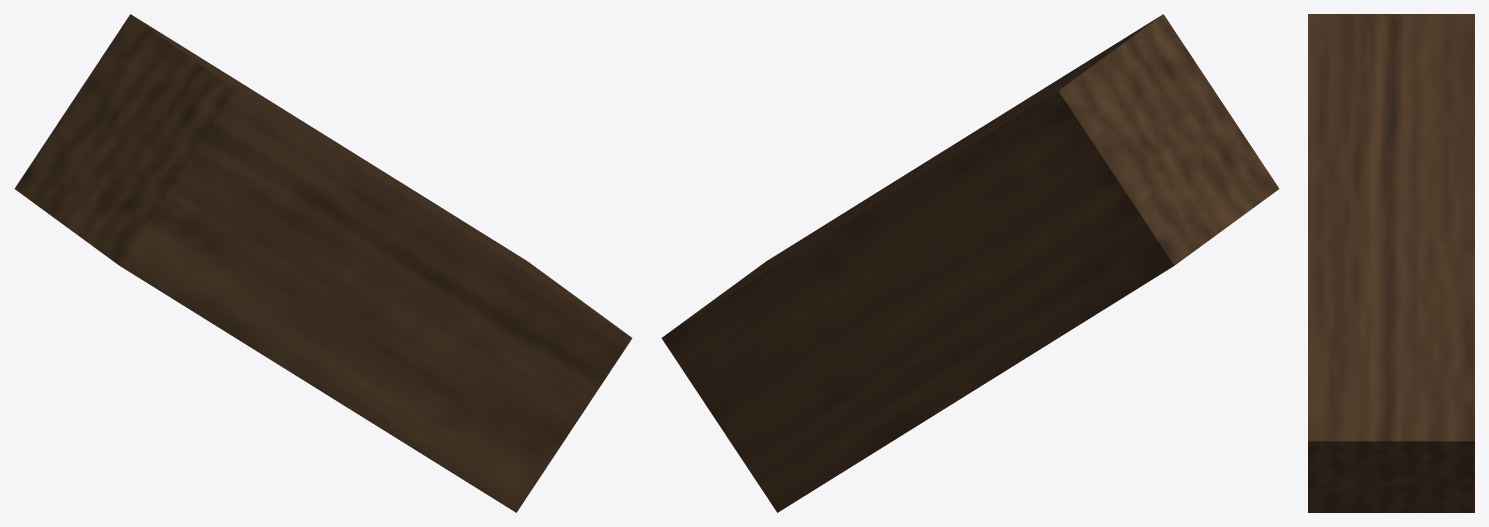
File: Splayed upper bracket__n2.glb
3 views of the same model, side by side, from view 1: azimuth 30°, elevation 25°; view 2: azimuth 150°, elevation 25°; view 3: azimuth 270°, elevation 25° (orthographic). The views are drawn at different scales.
Parts seen in each view (by area): view 1: Splayed upper bracket; view 2: Splayed upper bracket; view 3: Splayed upper bracket.
Part boxes in pixels (bbox=[...]): Splayed upper bracket: bbox=[14, 14, 632, 512]; Splayed upper bracket: bbox=[661, 14, 1279, 512]; Splayed upper bracket: bbox=[1308, 14, 1474, 512].
Size of the model in its own units: 0.7334 by 0.6703 by 0.26.
Materials: 1 (1 with a texture image).
